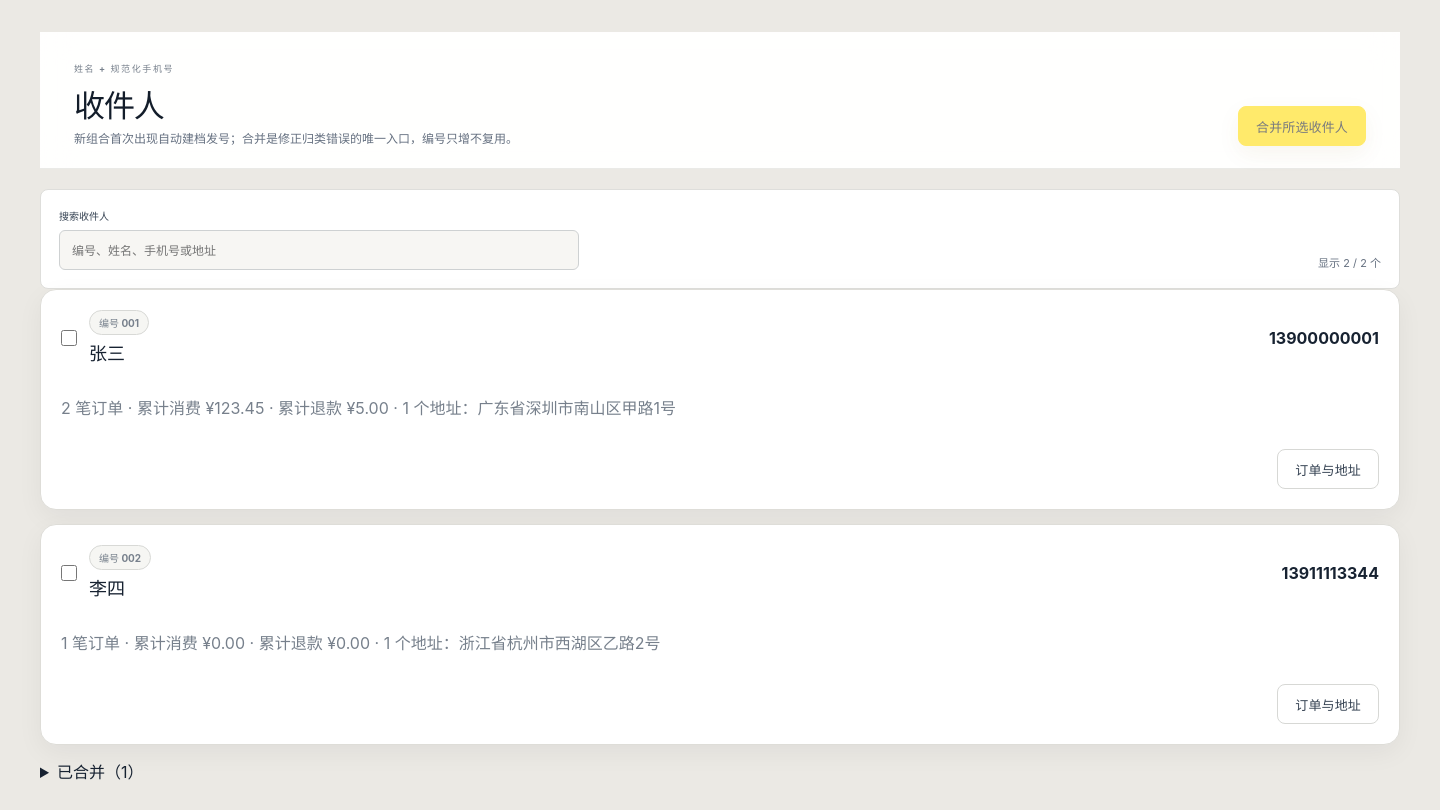
Test case: 收件人工作区筛选工具栏 › 按姓名、手机号片段、补零编号与地址搜索并显示计数
Expected: the heading "张三" is shown, [89, 343, 125, 364]
Expected: the text "显示 2 / 2 个" is shown, [1318, 254, 1381, 270]
Type "李四" into the search field labelled "搜索收件人".
click(319, 250); type("李四")  # box [59, 230, 579, 270]
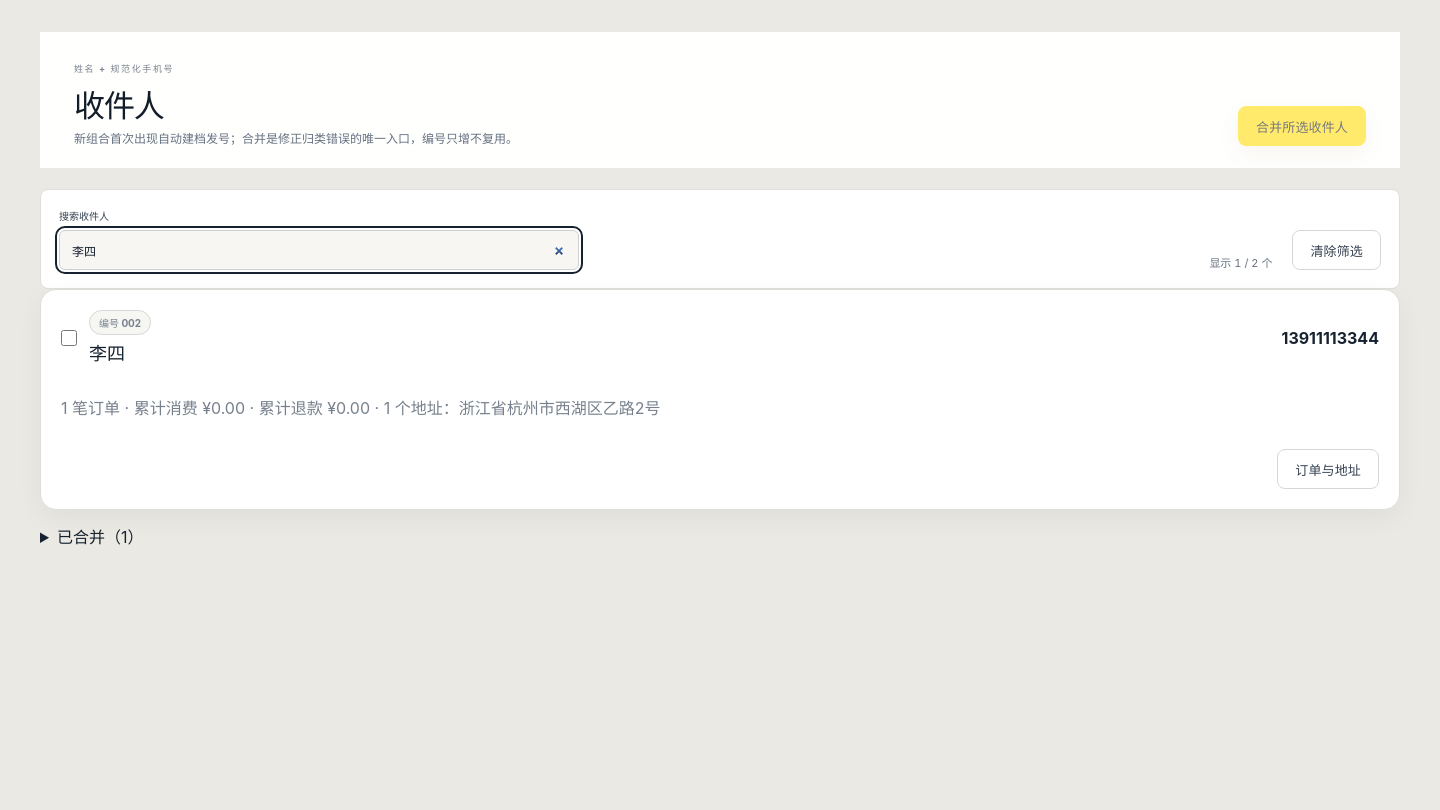
Now the text "显示 1 / 2 个" is shown, box [1209, 254, 1272, 270]
Now the heading "张三" is gone
Replace the text in the search field labelled "搜索收件人" with "3344" at (319, 250), box [59, 230, 579, 270]
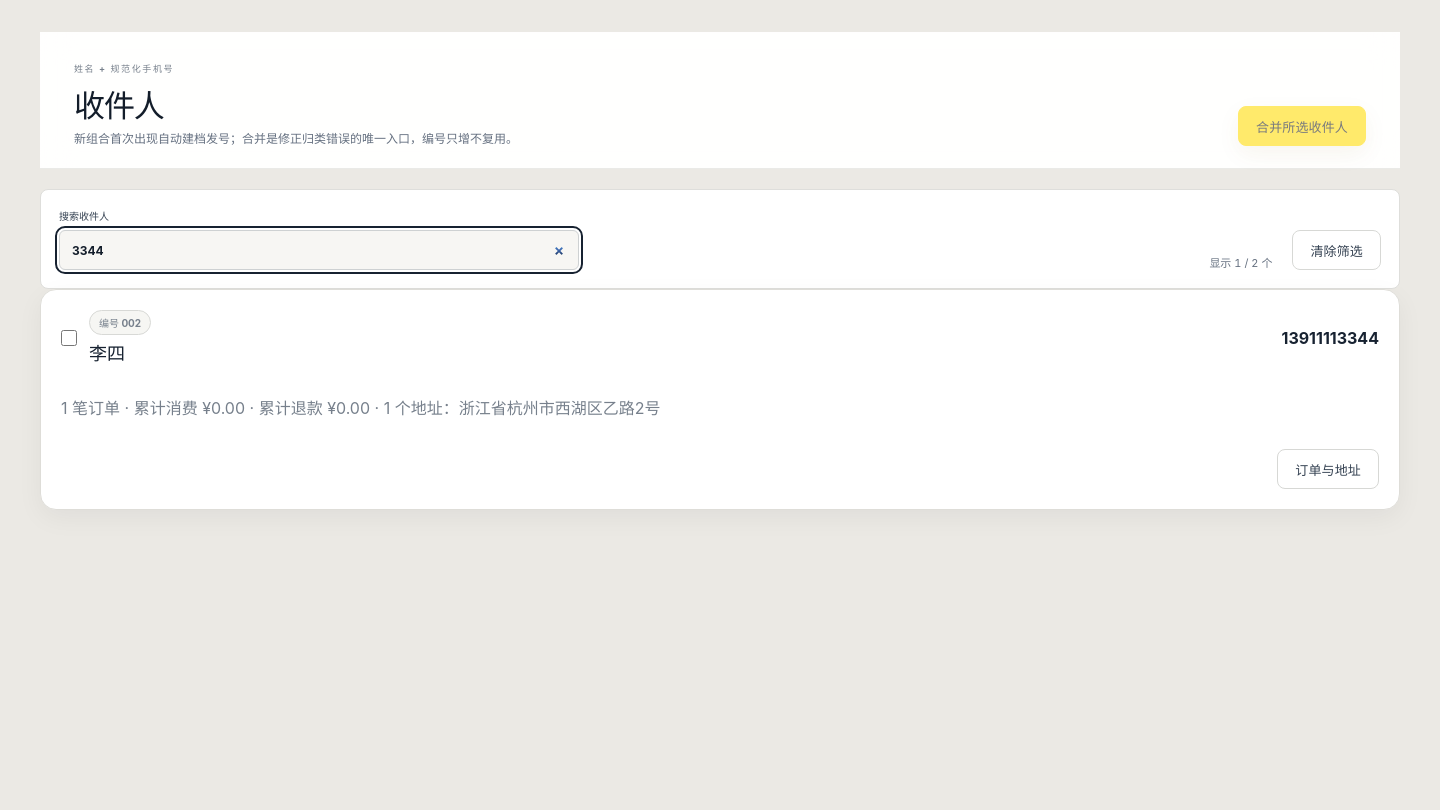
Expected: the heading "李四" is shown, [89, 343, 125, 364]
Expected: the heading "张三" is not shown
Replace the text in the search field labelled "搜索收件人" with "002" at (319, 250), box [59, 230, 579, 270]
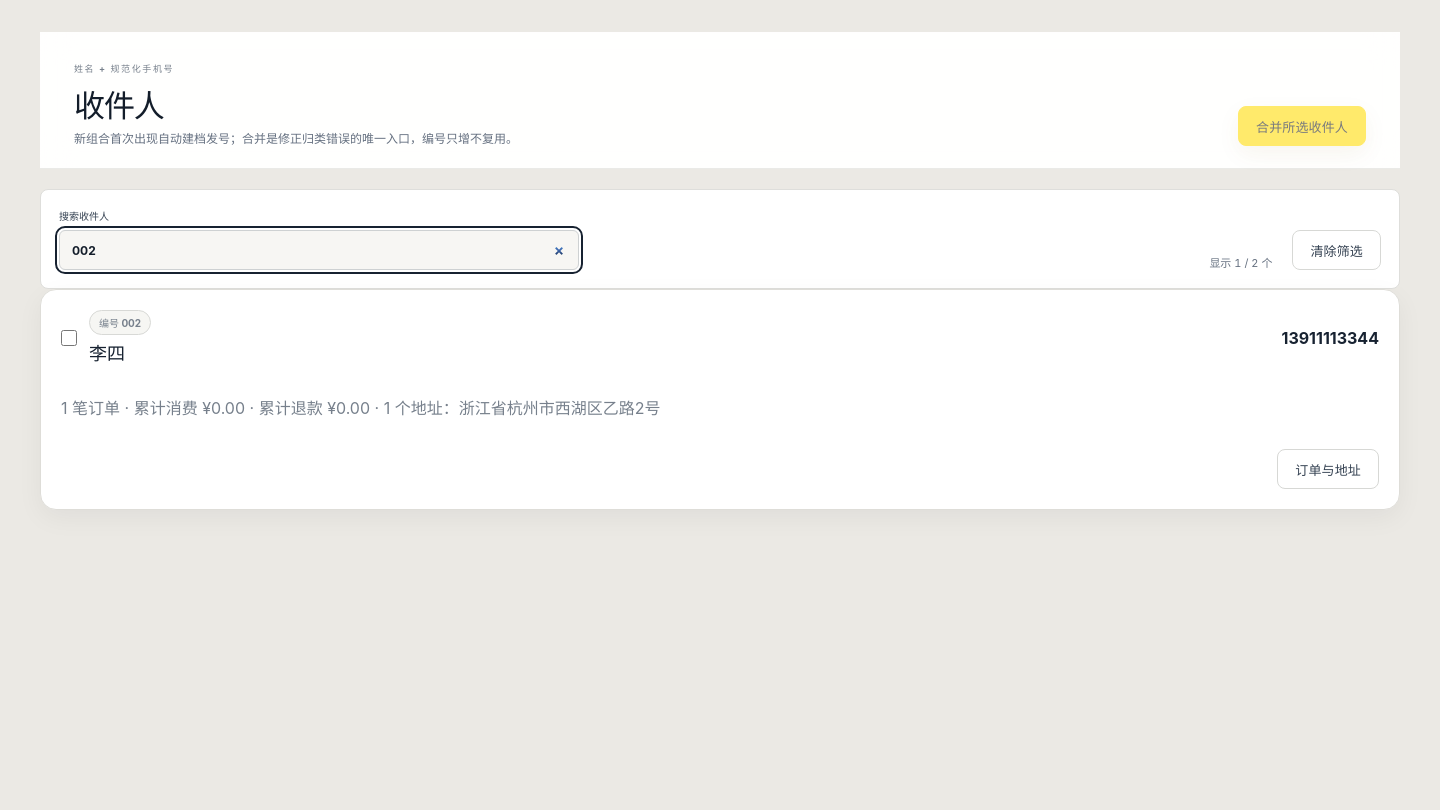
Expected: the heading "李四" is shown, [89, 343, 125, 364]
Expected: the heading "张三" is not shown
Replace the text in the search field labelled "搜索收件人" with "西湖区" at (319, 250), box [59, 230, 579, 270]
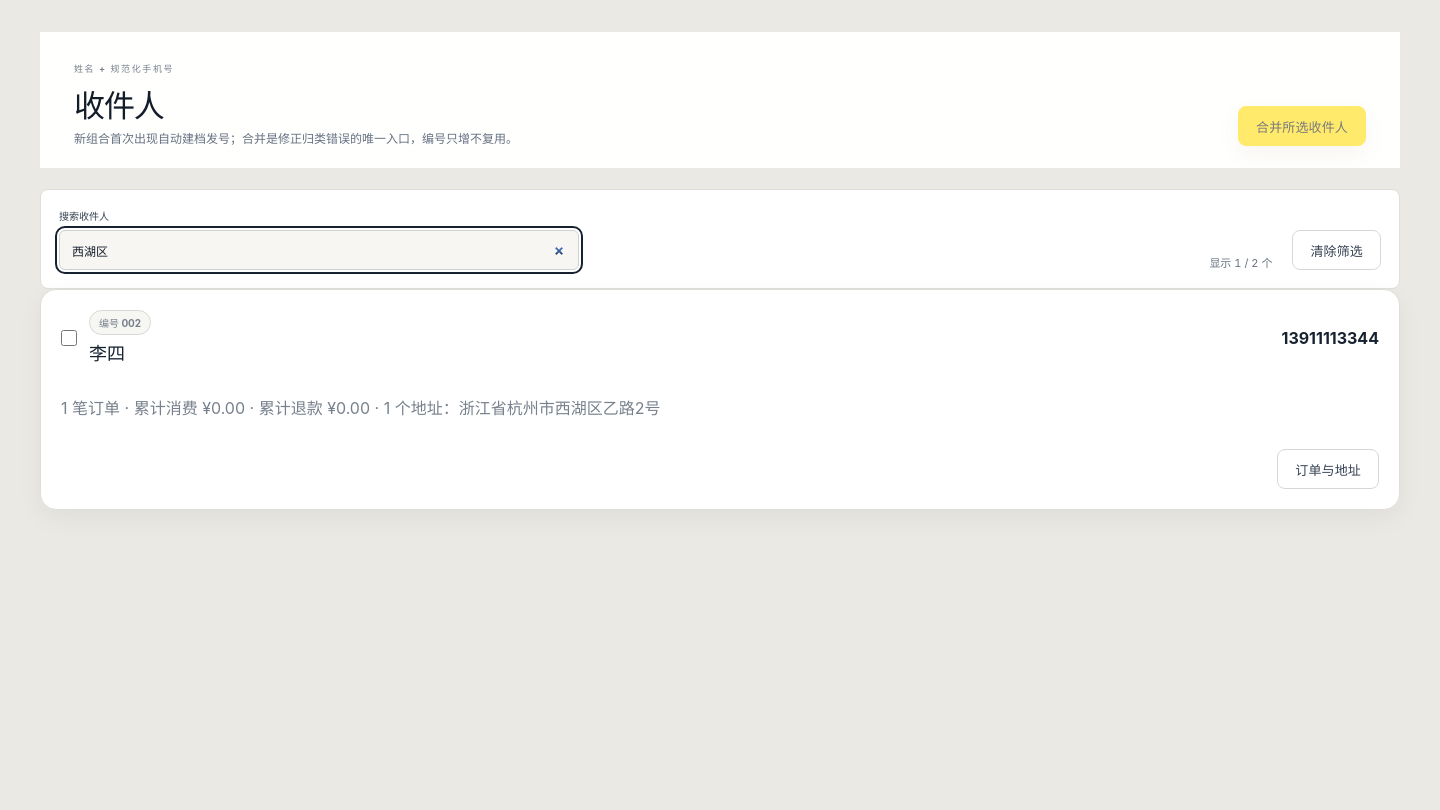
Expected: the heading "李四" is shown, [89, 343, 125, 364]
Expected: the heading "张三" is not shown
Click the button "清除筛选".
click(1337, 250)  # box [1292, 230, 1381, 270]
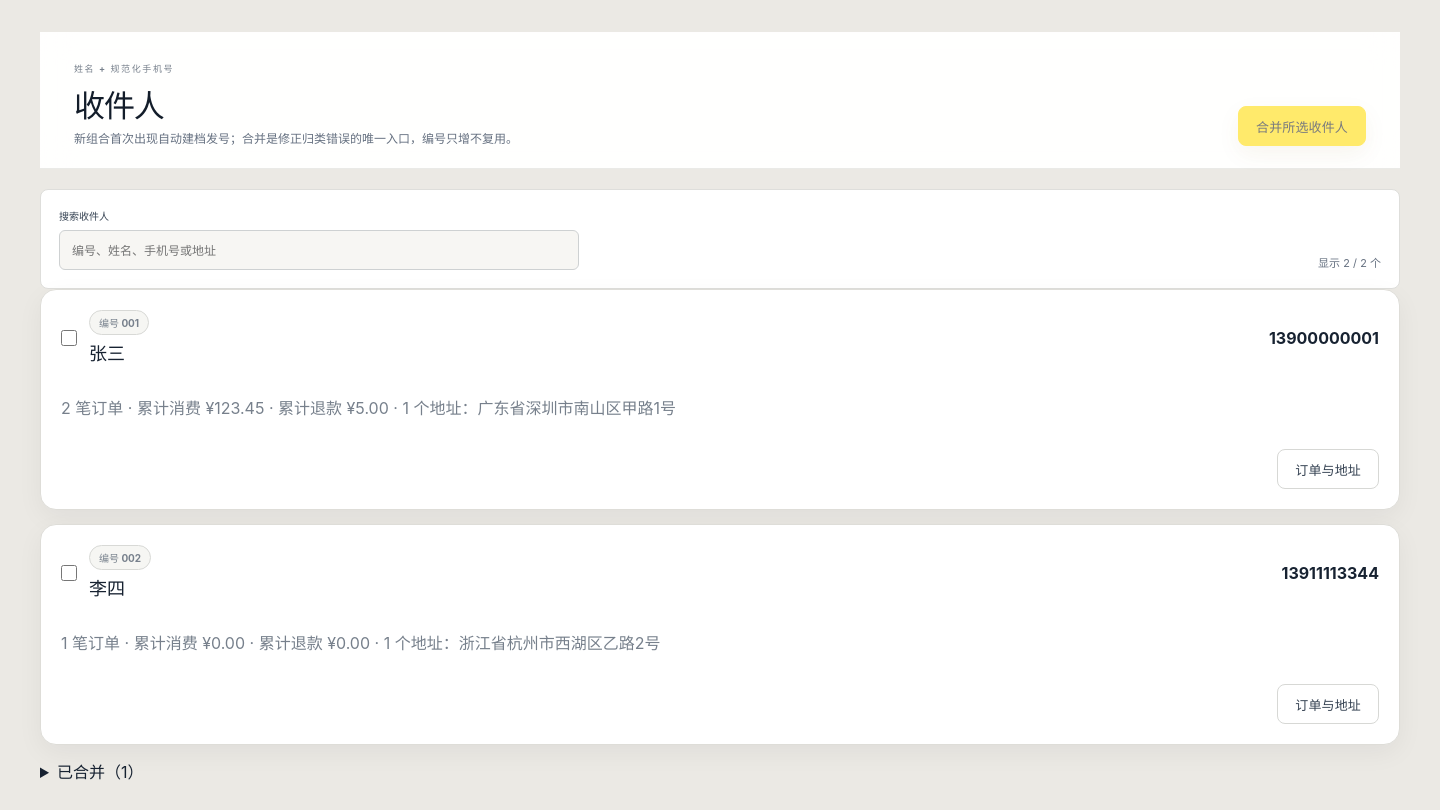
Now the text "显示 2 / 2 个" is shown, box [1318, 254, 1381, 270]
Now the heading "张三" is shown, box [89, 343, 125, 364]
